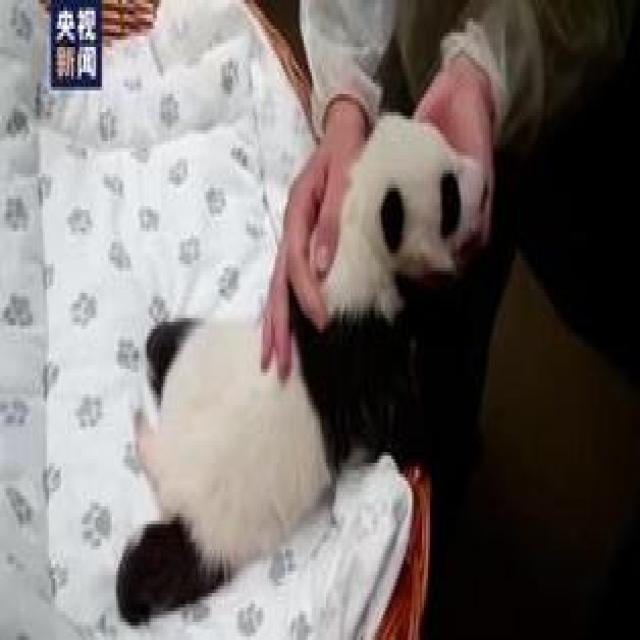panda: (114, 121, 511, 617)
